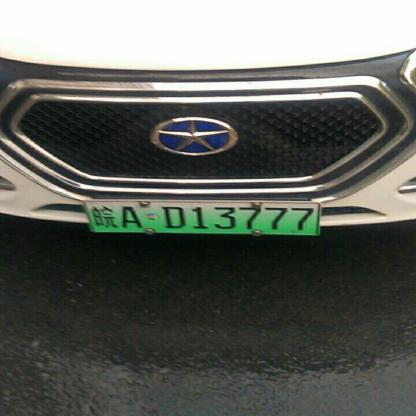lp: (84, 201, 321, 235)
